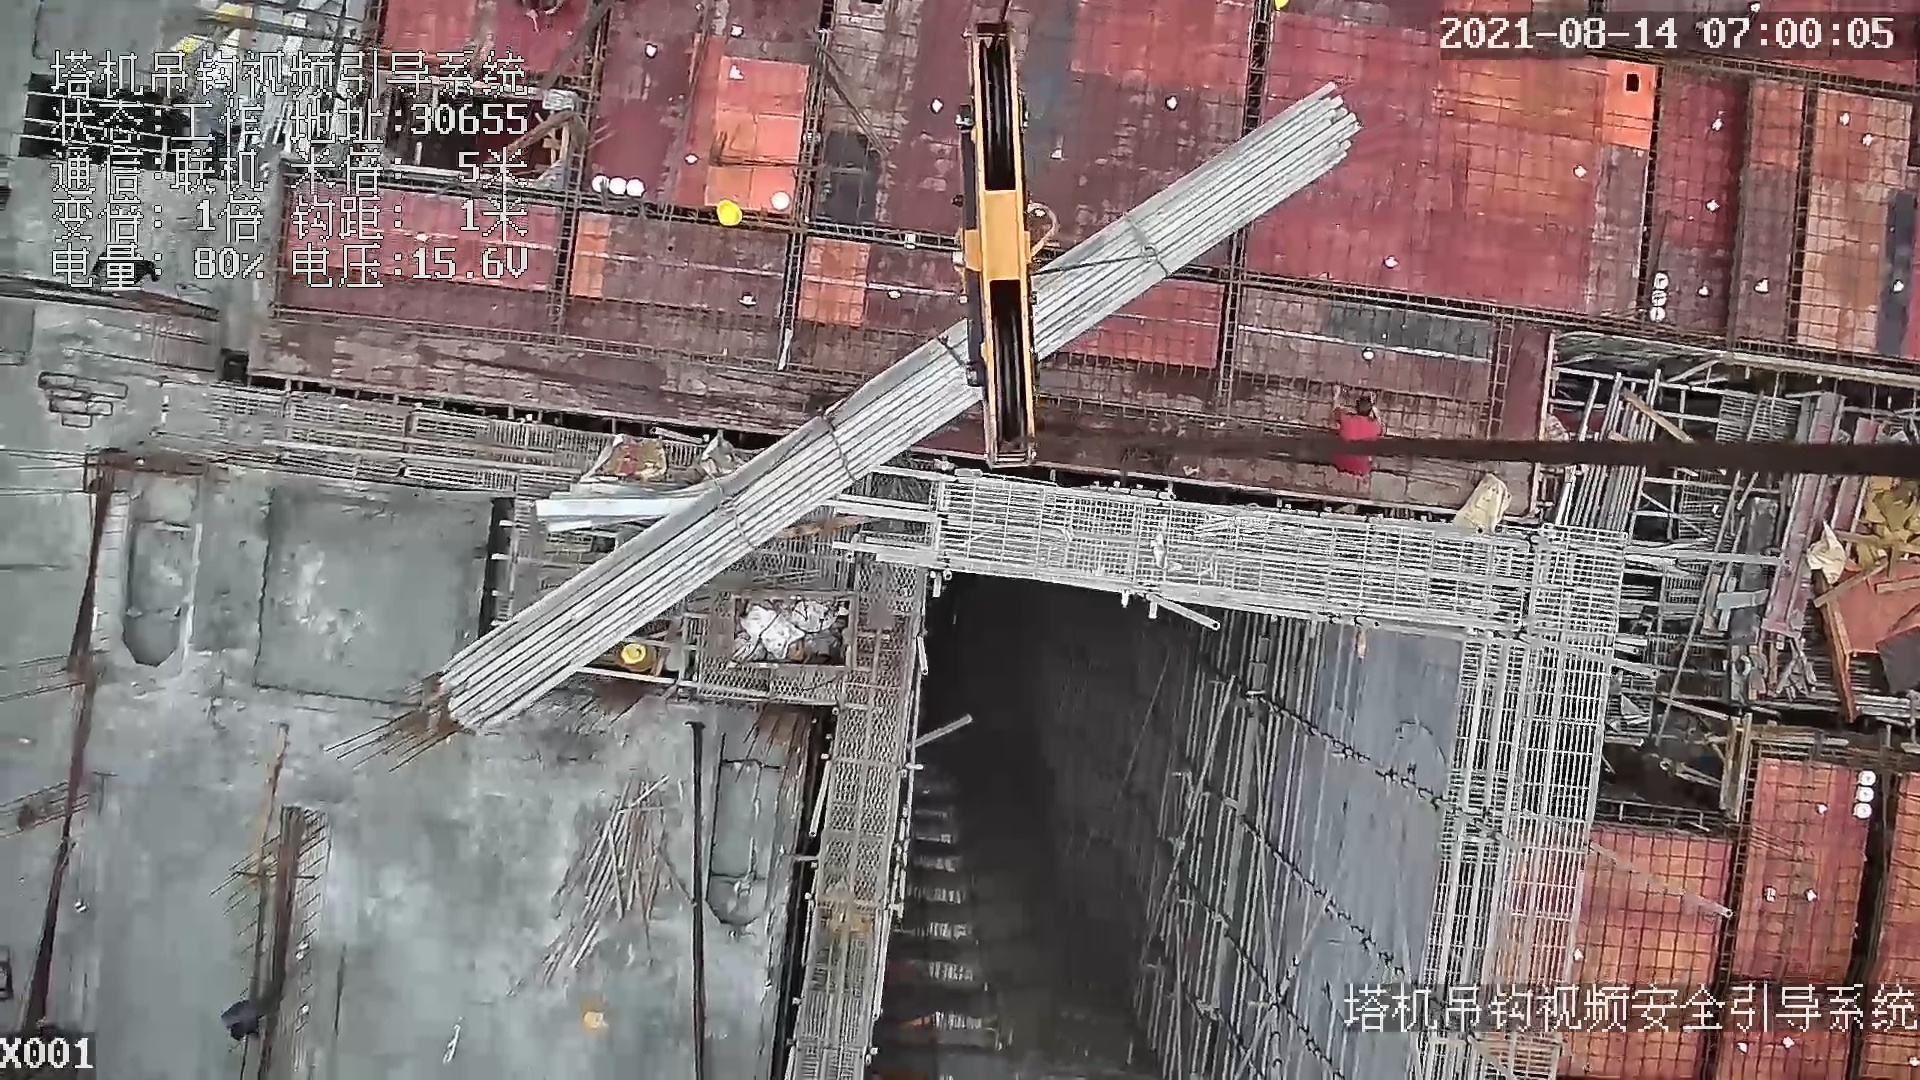helmet: (714, 199, 743, 228), (621, 644, 647, 664)
hook: (932, 19, 1070, 482)
person: (1332, 386, 1383, 482), (222, 1000, 256, 1040)
rebar: (435, 88, 1359, 733)
